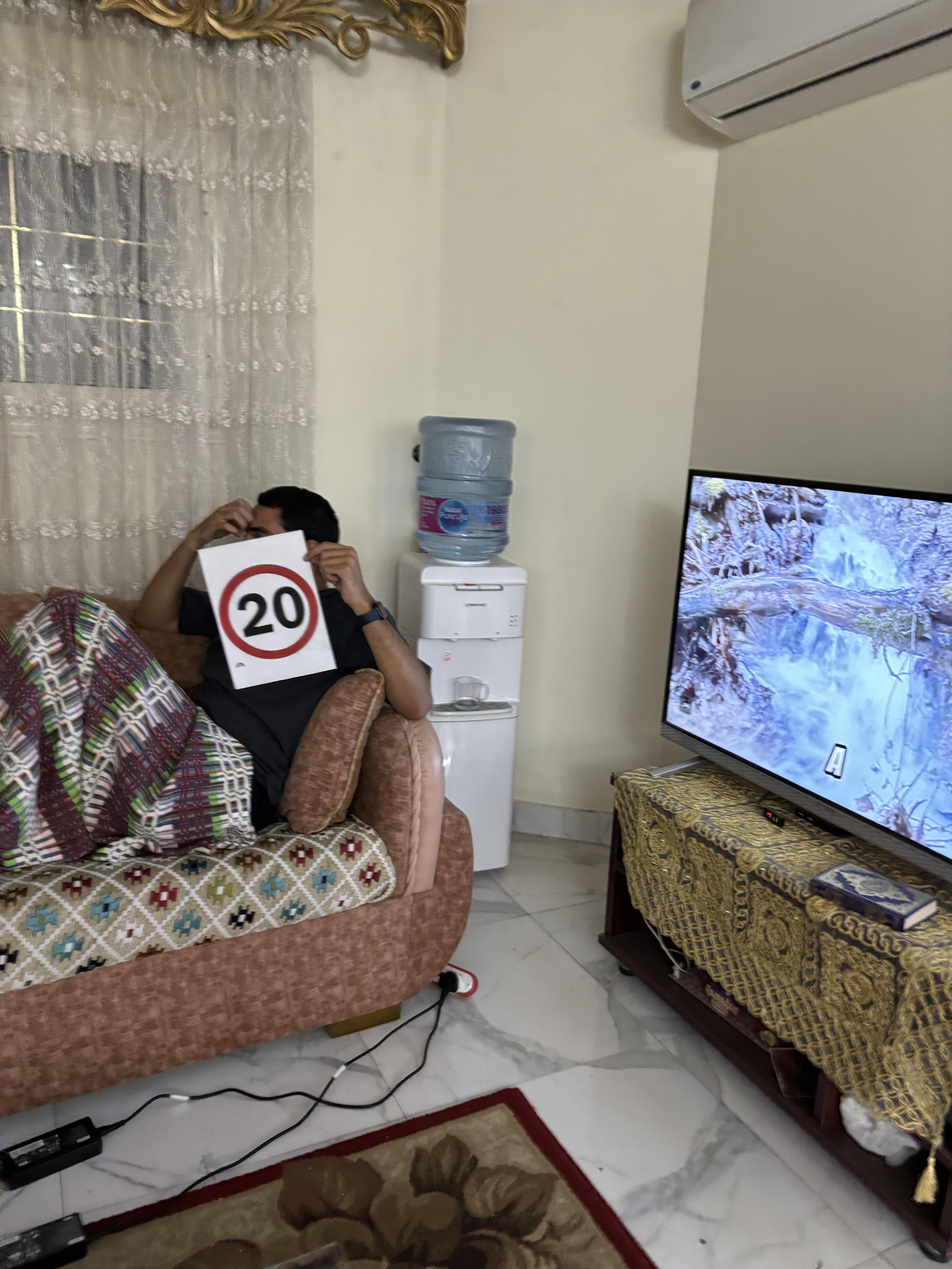20-Speed: (219, 563, 327, 657)
